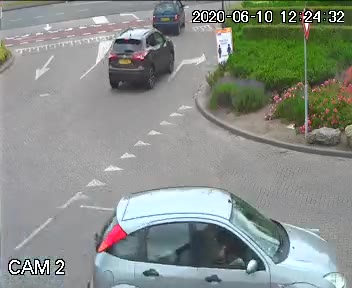car: (64, 168, 352, 288), (102, 31, 177, 97), (150, 1, 188, 30)
